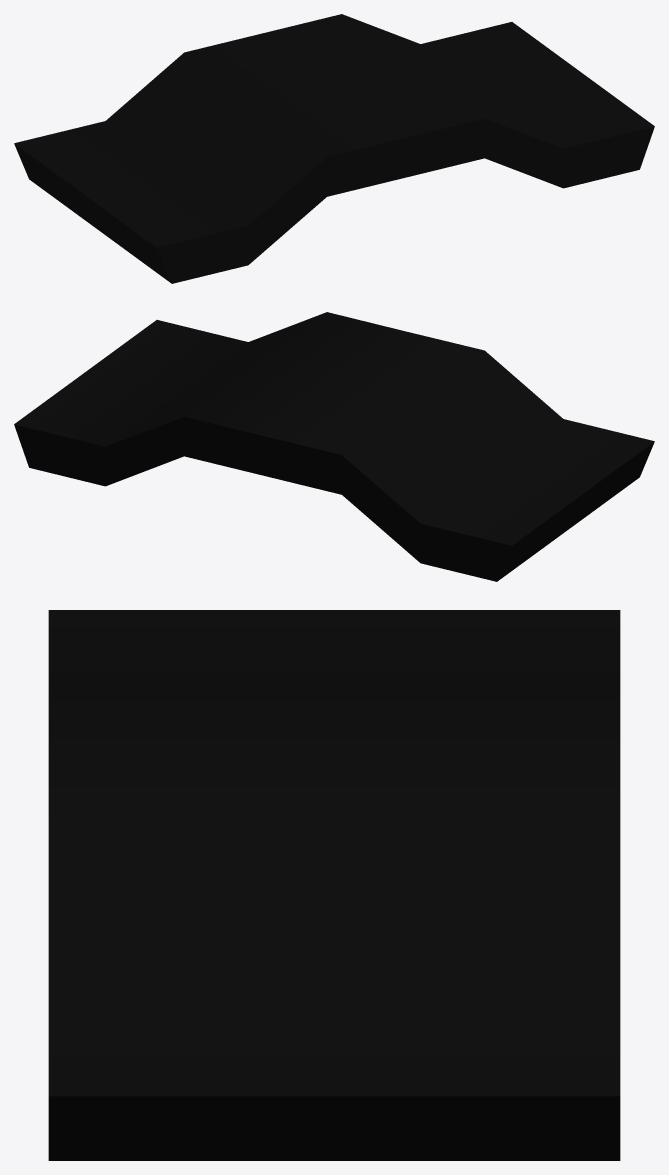
The model's file is Itr_Obj_Grandfatherclock1_Top_05.FBX.
3 renders of one model, top to bottom at view 1: azimuth 30°, elevation 25°; view 2: azimuth 150°, elevation 25°; view 3: azimuth 270°, elevation 25°, orthographic. The views are drawn at different scales.
Parts seen in each view (by area): view 1: Itr_Obj_Grandfatherclock1_Top_05; view 2: Itr_Obj_Grandfatherclock1_Top_05; view 3: Itr_Obj_Grandfatherclock1_Top_05.
Boxes of the visible parts, left/top/right/bottom form: Itr_Obj_Grandfatherclock1_Top_05: left=14, top=14, right=654, bottom=283; Itr_Obj_Grandfatherclock1_Top_05: left=14, top=312, right=654, bottom=581; Itr_Obj_Grandfatherclock1_Top_05: left=48, top=610, right=620, bottom=1160.
Size of the model in its own units: 22.92 by 3.92 by 11.39.
